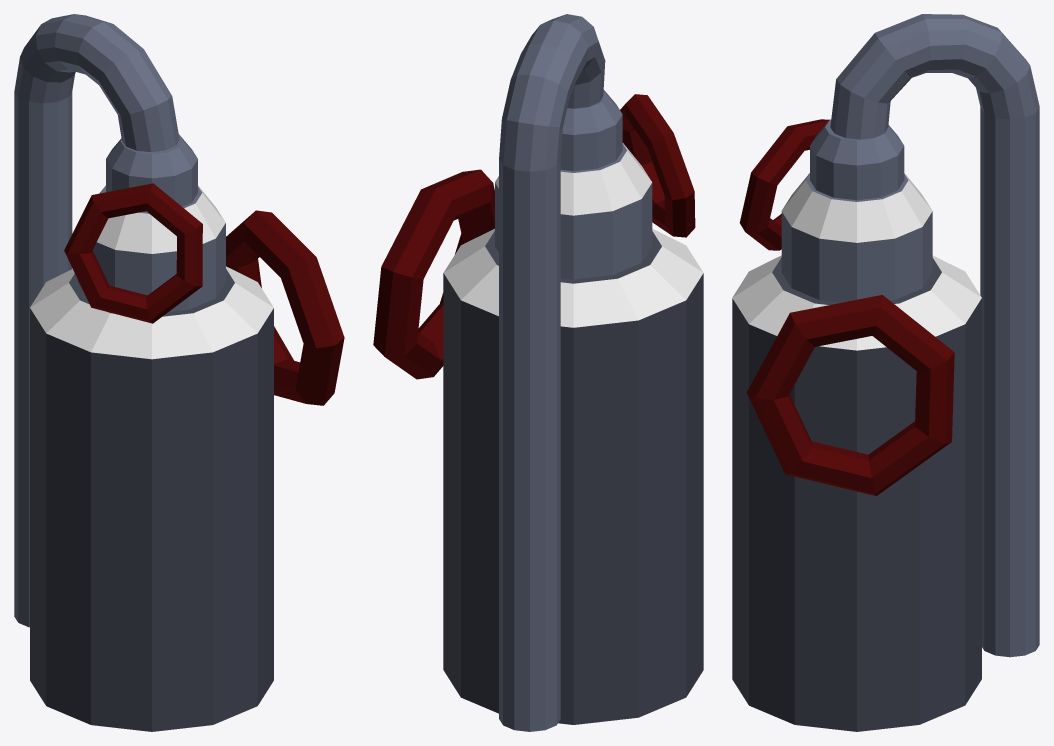
Rendered from well.glb.
3 views of the same model, side by side, from view 1: azimuth 30°, elevation 25°; view 2: azimuth 150°, elevation 25°; view 3: azimuth 270°, elevation 25° (orthographic). The views are drawn at different scales.
Parts seen in each view (by area): view 1: Cylinder.003, Cylinder.006, Torus, Torus.001, Cylinder.004, Cylinder.005; view 2: Cylinder.003, Cylinder.006, Torus, Cylinder.004, Torus.001, Cylinder.005; view 3: Cylinder.003, Cylinder.006, Torus, Cylinder.004, Cylinder.005, Torus.001.
Part boxes in pixels (x1,y1,x2,y2): Cylinder.003: (30, 266, 273, 731); Cylinder.006: (14, 14, 179, 627); Torus: (226, 210, 344, 405); Torus.001: (64, 183, 202, 323); Cylinder.004: (78, 185, 225, 311); Cylinder.005: (106, 134, 197, 211); Cylinder.003: (443, 228, 703, 724); Cylinder.006: (499, 14, 605, 731); Torus: (373, 169, 494, 379); Cylinder.004: (495, 143, 652, 279); Torus.001: (620, 94, 695, 237); Cylinder.005: (560, 90, 622, 171); Cylinder.003: (732, 255, 981, 731); Cylinder.006: (830, 14, 1039, 657); Torus: (746, 295, 954, 495); Cylinder.004: (781, 173, 932, 302); Cylinder.005: (810, 120, 904, 200); Torus.001: (739, 119, 830, 250).
Size of the model in its own units: 2.93 by 6.91 by 2.95.
